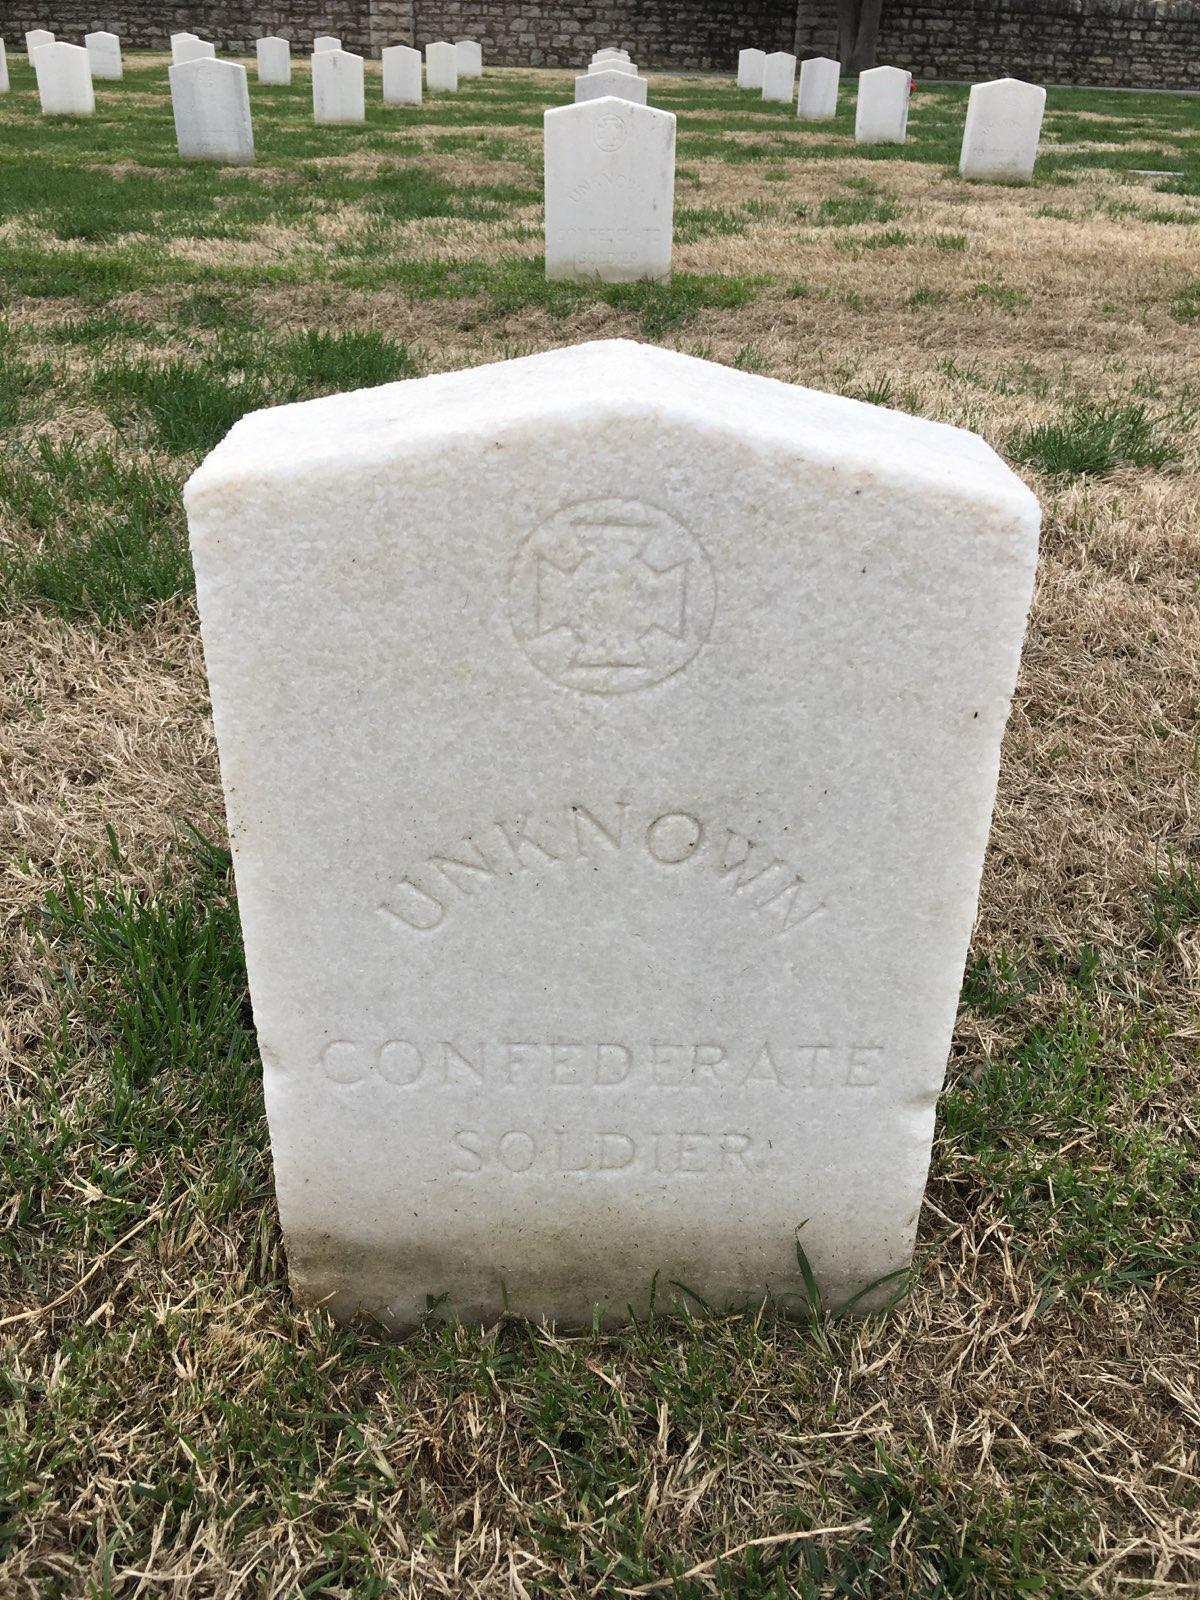military: (134, 305, 1070, 1369)
